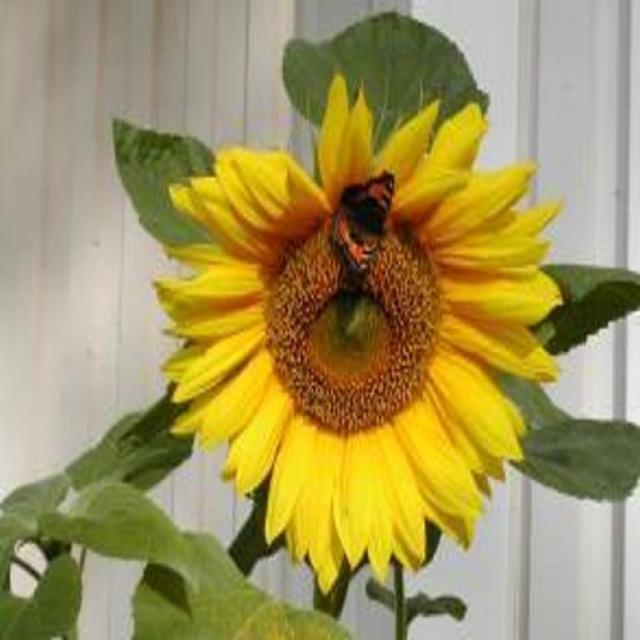sunflower: (148, 67, 562, 591)
